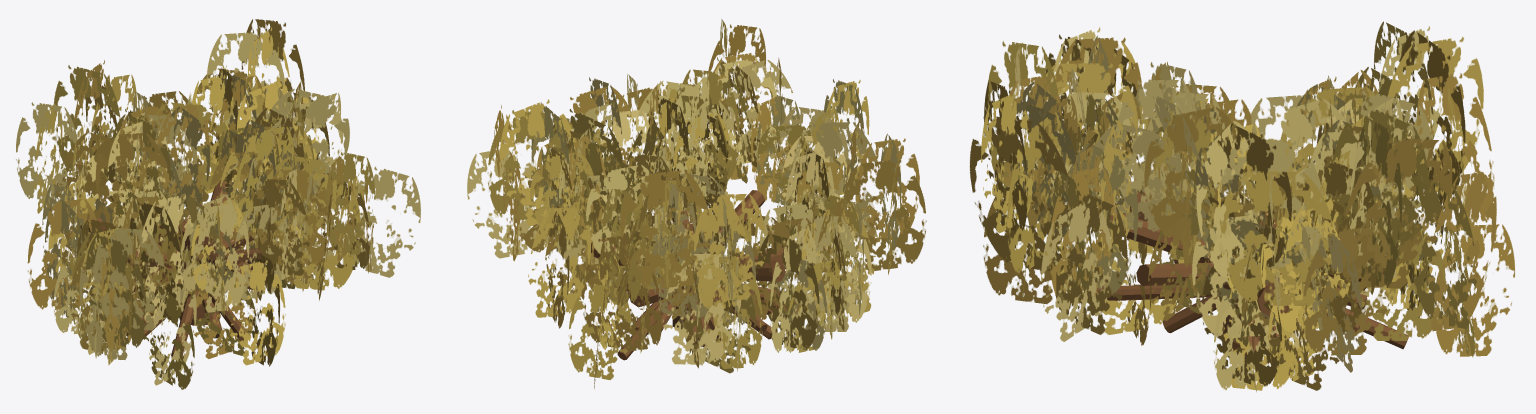
The model's file is Shrub_DryYellow.glb.
The picture shows the model from 3 angles, left to right: view 1: azimuth 30°, elevation 25°; view 2: azimuth 150°, elevation 25°; view 3: azimuth 270°, elevation 25°; orthographic projection. The views are drawn at different scales.
Parts seen in each view (by area): view 1: ShrubDry_Static_Mesh; view 2: ShrubDry_Static_Mesh; view 3: ShrubDry_Static_Mesh.
Part boxes in pixels (x1,y1,x2,y2): ShrubDry_Static_Mesh: (16,19,420,389); ShrubDry_Static_Mesh: (467,18,926,388); ShrubDry_Static_Mesh: (969,21,1514,392).
Size of the model in its own units: 2.3 by 1.47 by 2.35.
4 materials, 3 textured.
